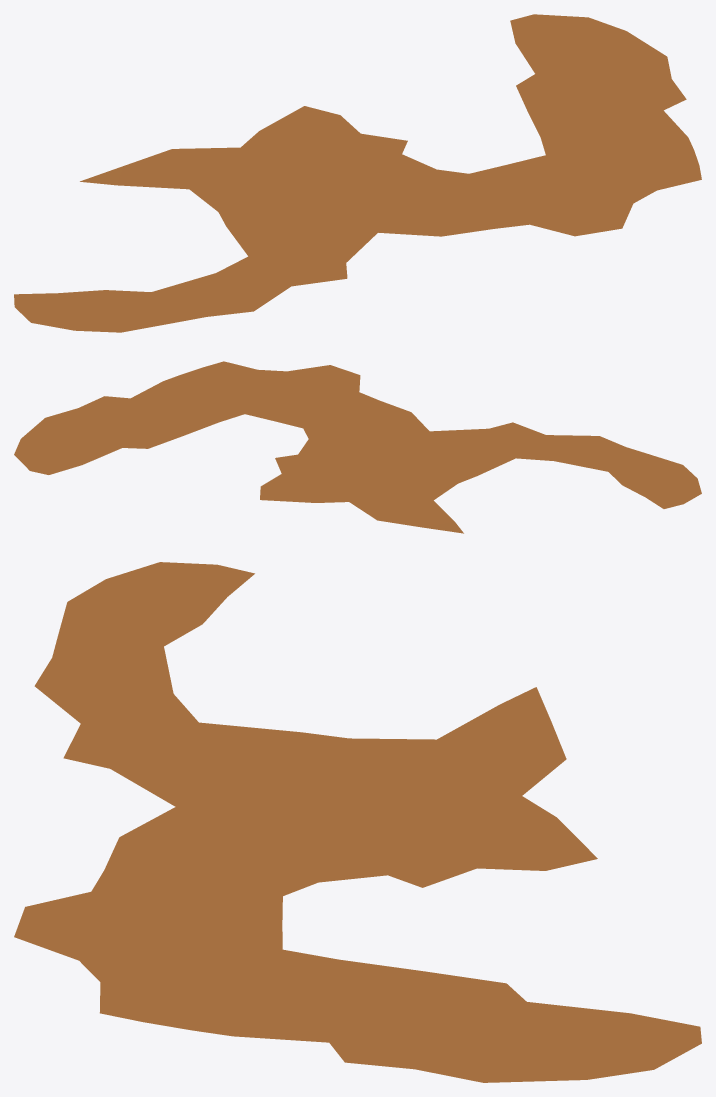
File: Ground.FBX
The picture shows the model from 3 angles, top to bottom: view 1: azimuth 30°, elevation 25°; view 2: azimuth 150°, elevation 25°; view 3: azimuth 270°, elevation 25°; orthographic projection. The views are drawn at different scales.
Visible parts, largest first — view 1: Ground; view 2: Ground; view 3: Ground.
Boxes of the visible parts, x1,y1,x2,y2 form: Ground: (14, 14, 701, 332); Ground: (14, 361, 701, 533); Ground: (14, 562, 701, 1082).
Bounding box in the file's own units: 7157 × 2.76 × 3995.
